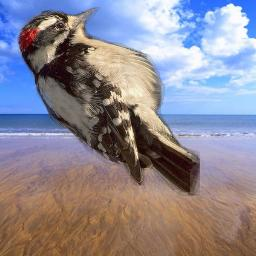Woodpecker: (17, 7, 200, 196)
